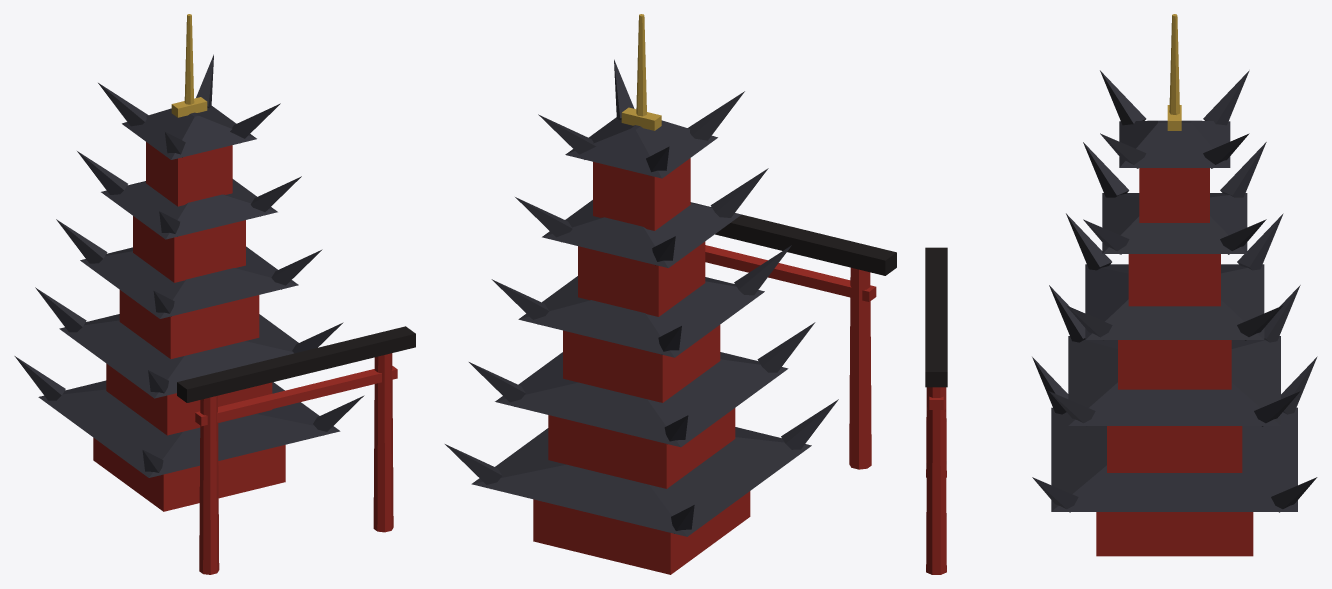
Rendered from macaque_landmark.glb.
The picture shows the model from 3 angles, left to right: view 1: azimuth 30°, elevation 25°; view 2: azimuth 150°, elevation 25°; view 3: azimuth 270°, elevation 25°; orthographic projection. The views are drawn at different scales.
Visible parts, largest first — view 1: macaque_landmark; view 2: macaque_landmark; view 3: macaque_landmark.
Part boxes in pixels (x1=…): macaque_landmark: x1=14, y1=14, x2=415, y2=574; macaque_landmark: x1=445, y1=14, x2=896, y2=574; macaque_landmark: x1=925, y1=14, x2=1317, y2=574.
Bounding box in the file's own units: 2.1 × 4 × 2.8.
